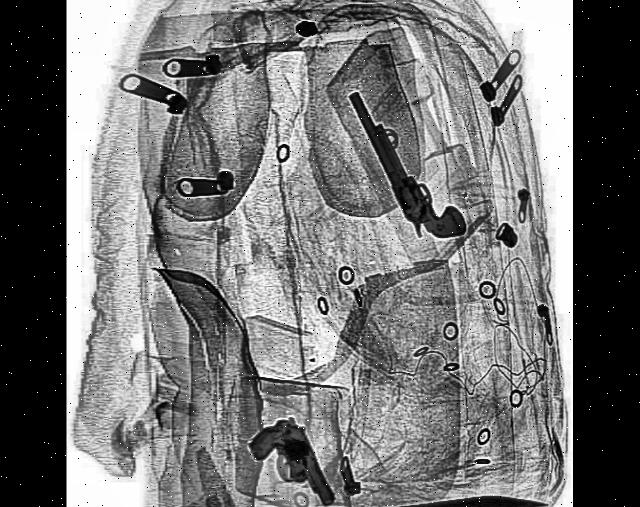Gun: (348, 62, 468, 269), (245, 402, 337, 507)
Knife: (233, 481, 548, 507)
